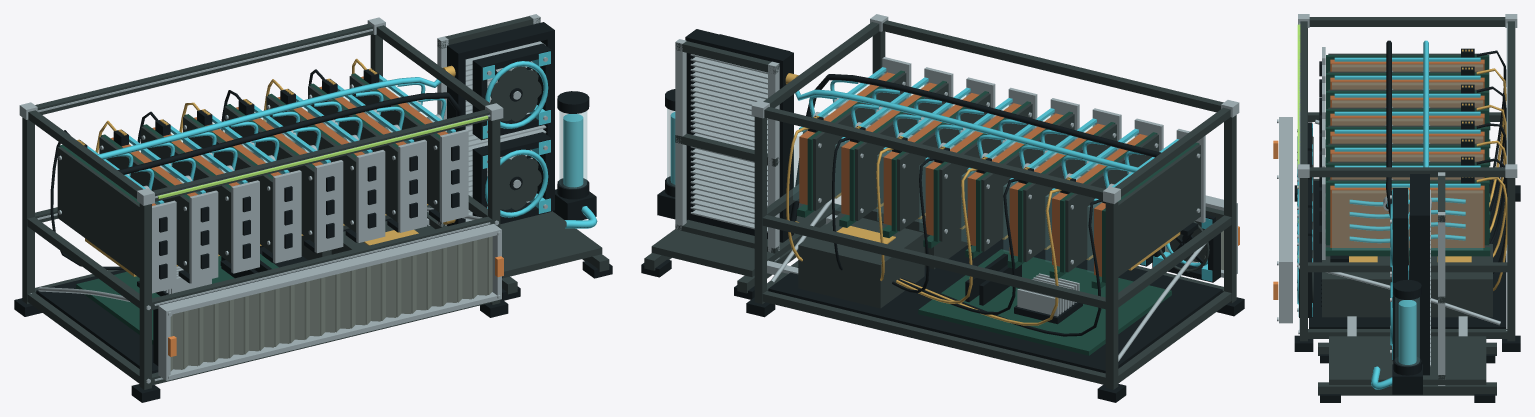
The model's file is rig-8-pleated-liquid.glb.
The picture shows the model from 3 angles, left to right: view 1: azimuth 30°, elevation 25°; view 2: azimuth 150°, elevation 25°; view 3: azimuth 270°, elevation 25°; orthographic projection. The views are drawn at different scales.
Visible parts, largest first — view 1: Anodized graphite (×4), Brushed aluminium (×11), gpu-liquid (×8), Rubber and ABS (×12), Filter fibres, Coolant blue (×4), cooling-liquid, Circuit board, rig-8-pleated-liquid; view 2: Anodized graphite (×2), gpu-liquid (×8), Rubber and ABS (×4), Brushed aluminium (×10), Circuit board, Coolant blue, slot-cable-1, slot-cable-2, slot-cable-3, slot-cable-4, cooling-liquid, slot-cable-5; view 3: Anodized graphite (×2), gpu-liquid (×8), Rubber and ABS (×7), Coolant blue (×11), Brushed aluminium (×4), cooling-liquid, Circuit board, rig-8-pleated-liquid, Contacts, slot-cable-1, slot-cable-8, slot-cable-2 (+5 smaller).
Part boxes in pixels (x1,y1,x2,y2): Anodized graphite (×4): [22, 16, 609, 389]; Brushed aluminium (×11): [19, 14, 546, 383]; gpu-liquid (×8): [57, 73, 449, 277]; Rubber and ABS (×12): [14, 22, 612, 402]; Filter fibres: [170, 236, 492, 371]; Coolant blue (×4): [97, 51, 597, 228]; cooling-liquid: [559, 111, 586, 188]; Circuit board: [76, 254, 278, 344]; rig-8-pleated-liquid: [158, 115, 488, 198]; Anodized graphite (×2): [644, 20, 1236, 389]; gpu-liquid (×8): [793, 70, 1200, 282]; Rubber and ABS (×4): [641, 29, 1244, 402]; Brushed aluminium (×10): [675, 14, 1239, 361]; Circuit board: [797, 204, 1171, 355]; Coolant blue: [795, 80, 1145, 188]; slot-cable-1: [901, 199, 1102, 336]; slot-cable-2: [900, 189, 1061, 325]; slot-cable-3: [898, 178, 1019, 314]; slot-cable-4: [896, 168, 977, 303]; cooling-liquid: [667, 108, 674, 186]; slot-cable-5: [892, 158, 935, 293]; Anodized graphite (×2): [1300, 17, 1515, 395]; gpu-liquid (×8): [1326, 53, 1489, 249]; Rubber and ABS (×7): [1294, 40, 1520, 402]; Coolant blue (×11): [1334, 40, 1480, 389]; Brushed aluminium (×4): [1279, 14, 1517, 385]; cooling-liquid: [1395, 297, 1419, 365]; Circuit board: [1325, 121, 1490, 262]; rig-8-pleated-liquid: [1297, 24, 1300, 168]; Contacts: [1349, 256, 1471, 262]; slot-cable-1: [1476, 50, 1506, 192]; slot-cable-8: [1476, 177, 1507, 290]; slot-cable-2: [1476, 68, 1506, 207].
Bounding box in the file's own units: 8.43 × 3.32 × 4.01.
